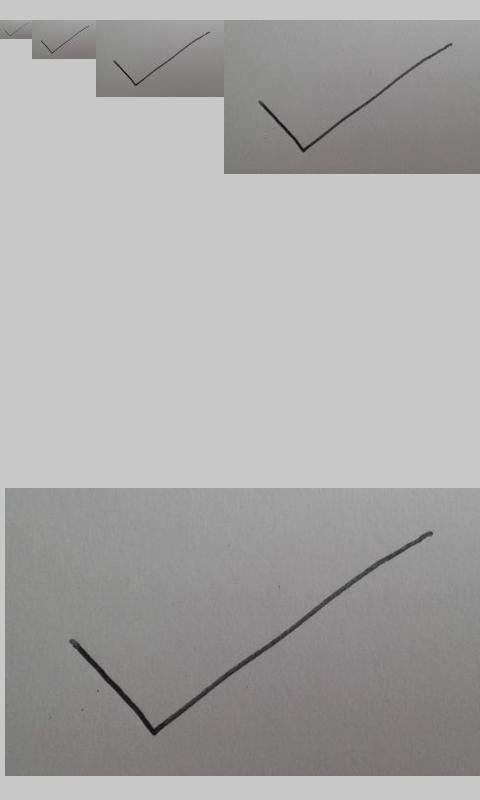check_box: (64, 530, 431, 740), (259, 42, 452, 153), (113, 32, 209, 86), (40, 25, 89, 54), (4, 23, 26, 37)
